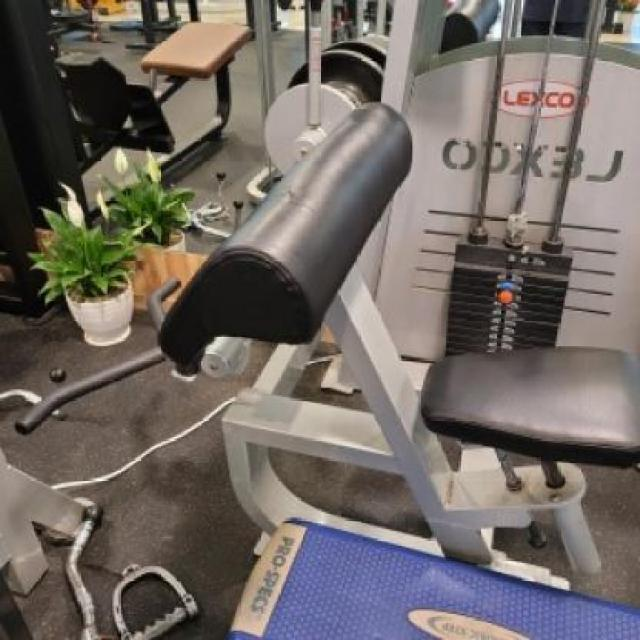arm curl machine: (14, 102, 640, 596)
